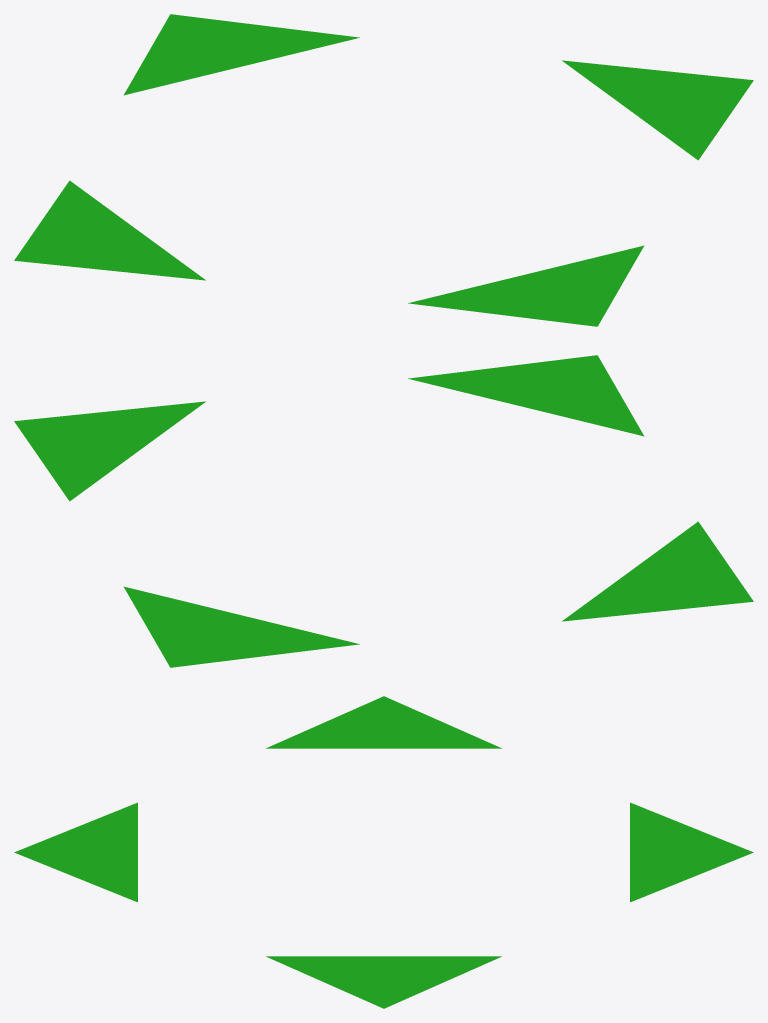
The picture shows the model from 3 angles, top to bottom: view 1: azimuth 30°, elevation 25°; view 2: azimuth 150°, elevation 25°; view 3: azimuth 270°, elevation 25°; orthographic projection. The views are drawn at different scales.
Parts seen in each view (by area): view 1: Plane001; view 2: Plane001; view 3: Plane001.
Boxes of the visible parts, x1,y1,x2,y2 form: Plane001: (14, 14, 753, 326); Plane001: (14, 355, 753, 667); Plane001: (14, 696, 753, 1008).
Size of the model in its own units: 90.98 by 90.98 by 0.
